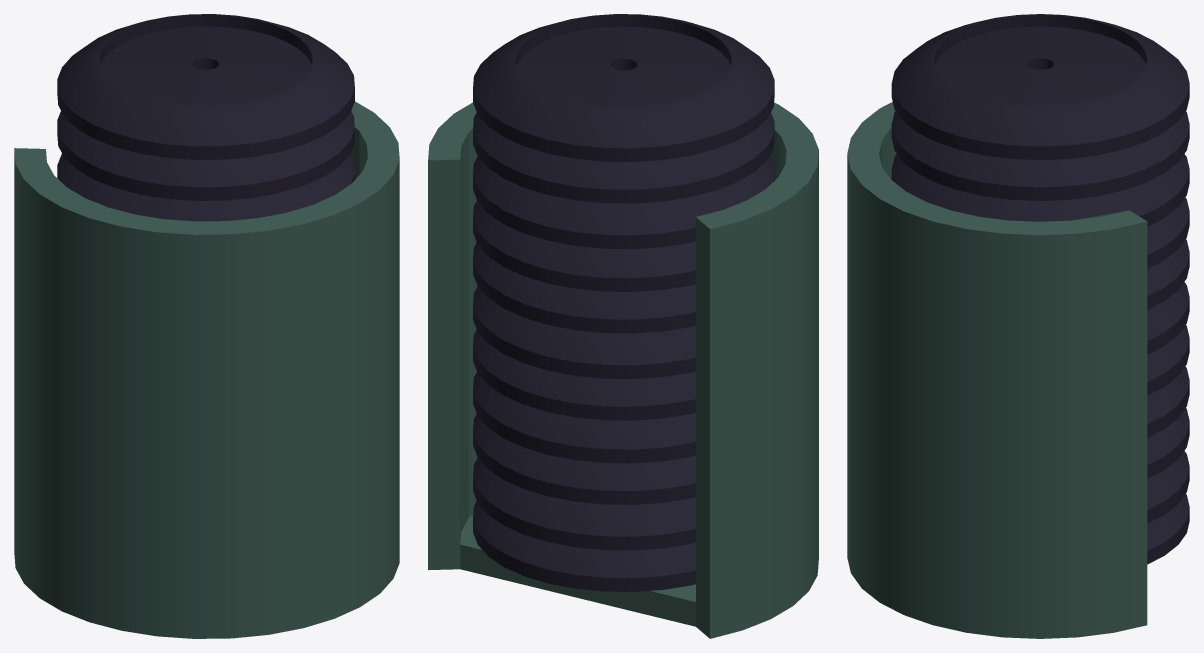
File: 16ozKapakYuva.fbx
3 views of the same model, side by side, from view 1: azimuth 30°, elevation 25°; view 2: azimuth 150°, elevation 25°; view 3: azimuth 270°, elevation 25° (orthographic).
Visible parts, largest first — view 1: 16ozKapakYuva; view 2: 16ozKapakYuva; view 3: 16ozKapakYuva.
Part boxes in pixels (<box>): 16ozKapakYuva: <box>14,14,399,638</box>; 16ozKapakYuva: <box>428,14,818,638</box>; 16ozKapakYuva: <box>847,14,1189,638</box>.
Size of the model in its own units: 50.54 by 71.85 by 44.86.
